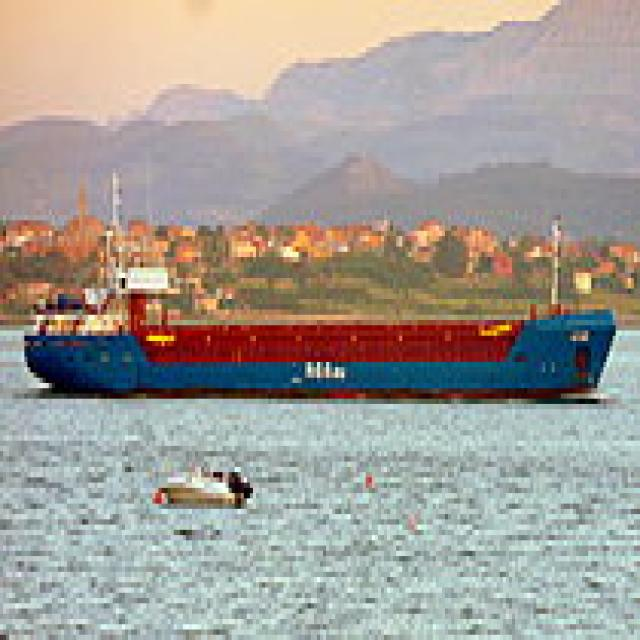Cargo: (18, 215, 616, 399)
